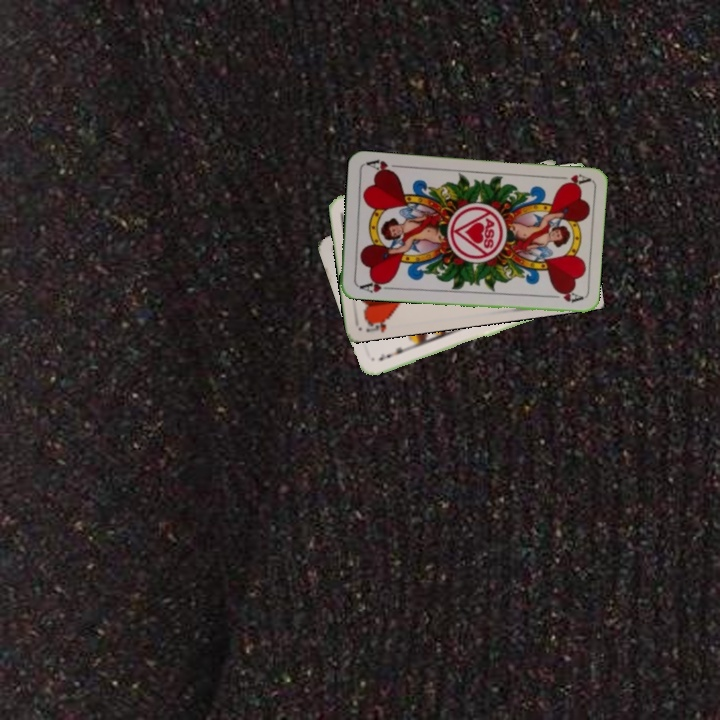E7: (375, 343, 411, 363)
HA: (354, 276, 395, 295), (551, 170, 591, 189)
HO: (361, 313, 393, 335)
